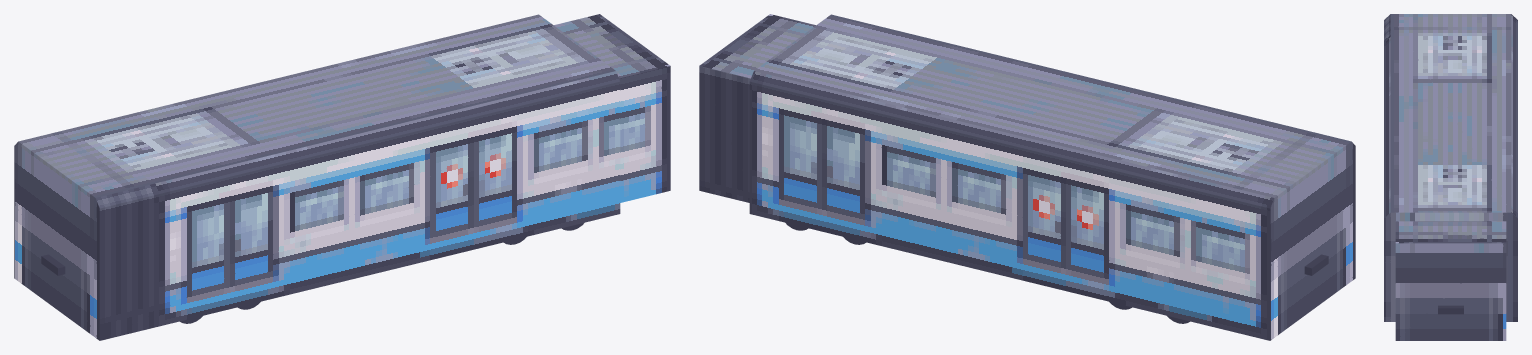
The model's file is blue-middle-v1.glb.
3 views of the same model, side by side, from view 1: azimuth 30°, elevation 25°; view 2: azimuth 150°, elevation 25°; view 3: azimuth 270°, elevation 25° (orthographic). The views are drawn at different scales.
Parts seen in each view (by area): view 1: Skirt-west, Roof, Roof-shoulder-west, Bellows-body-2, Negative-end-lower, Negative-end-upper, Bellows-body-0; view 2: Skirt-east, Roof, Roof-shoulder-east, Bellows-body-3, Negative-end-lower, Negative-end-upper, Bellows-body-0; view 3: Roof, Bellows-body-5, Bellows-body-0, Positive-end-upper, Positive-end-lower, Roof-shoulder-east, Roof-shoulder-west, Coupler-head-positive, Positive-end-corner-1, Positive-end-corner--1.
Part boxes in pixels (<box>): Skirt-west: <box>99,81,620,340</box>; Roof: <box>18,14,615,197</box>; Roof-shoulder-west: <box>95,71,619,208</box>; Bellows-body-2: <box>619,66,670,202</box>; Negative-end-lower: <box>14,203,99,340</box>; Negative-end-upper: <box>14,141,99,264</box>; Bellows-body-0: <box>554,14,670,78</box>; Skirt-east: <box>749,81,1270,340</box>; Roof: <box>754,14,1351,197</box>; Roof-shoulder-east: <box>750,71,1274,208</box>; Bellows-body-3: <box>699,66,750,202</box>; Negative-end-lower: <box>1270,203,1355,340</box>; Negative-end-upper: <box>1270,141,1355,264</box>; Bellows-body-0: <box>699,14,815,78</box>; Roof: <box>1390,14,1511,212</box>; Bellows-body-5: <box>1395,243,1506,340</box>; Bellows-body-0: <box>1395,221,1506,243</box>; Positive-end-upper: <box>1384,212,1517,262</box>; Positive-end-lower: <box>1384,262,1517,321</box>; Roof-shoulder-east: <box>1511,14,1517,217</box>; Roof-shoulder-west: <box>1384,14,1390,217</box>; Coupler-head-positive: <box>1438,305,1463,314</box>; Positive-end-corner-1: <box>1511,213,1517,261</box>; Positive-end-corner--1: <box>1384,213,1390,261</box>.
Size of the model in its own units: 164 by 40 by 41.
1 material, 1 textured.
